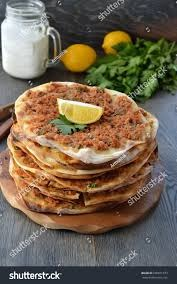lahmacun: (0, 82, 161, 233)
